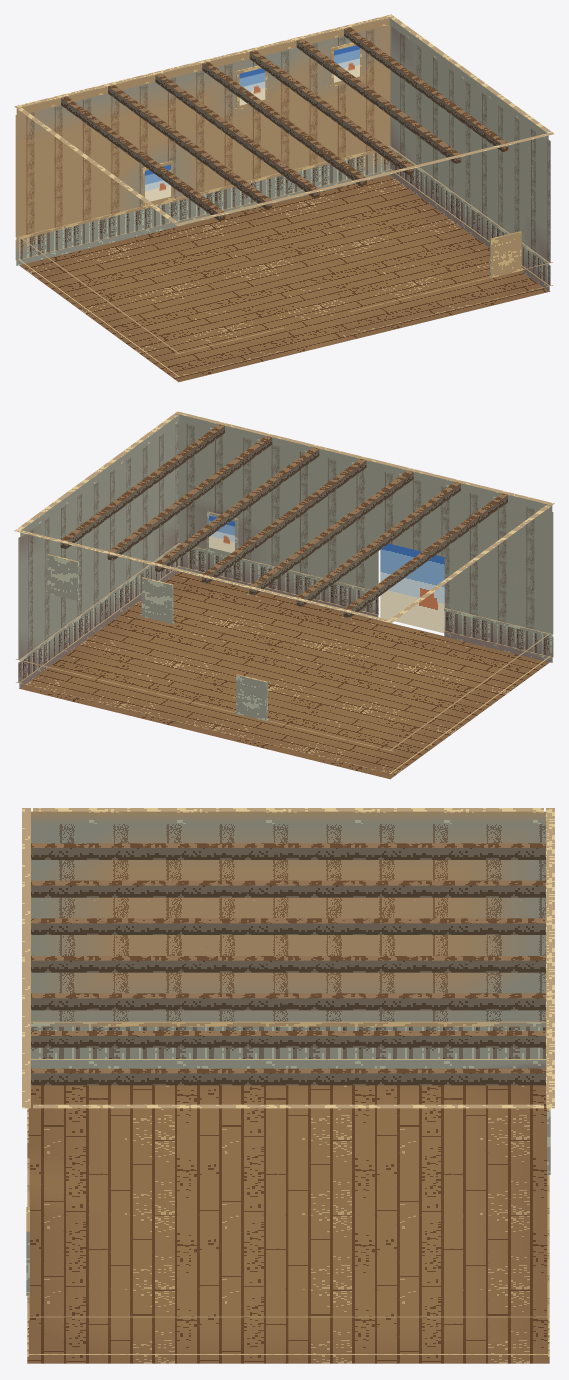
The model's file is wtown.room__saloon.glb.
3 renders of one model, top to bottom at view 1: azimuth 30°, elevation 25°; view 2: azimuth 150°, elevation 25°; view 3: azimuth 270°, elevation 25°, orthographic. The views are drawn at different scales.
Parts seen in each view (by area): view 1: kit_shell_walls, kit_shell_floor, kit_beams, kit_windows, kit_card_views; view 2: kit_shell_walls, kit_shell_floor, kit_beams, kit_windows, kit_card_door_views, kit_card_views; view 3: kit_shell_floor, kit_shell_walls, kit_beams.
Part boxes in pixels (<box>): kit_shell_walls: <box>14,14,554,377</box>; kit_shell_floor: <box>19,175,549,382</box>; kit_beams: <box>61,27,508,221</box>; kit_windows: <box>140,42,523,278</box>; kit_card_views: <box>145,45,359,202</box>; kit_shell_walls: <box>14,411,554,774</box>; kit_shell_floor: <box>19,572,549,779</box>; kit_beams: <box>60,424,507,618</box>; kit_windows: <box>45,511,268,721</box>; kit_card_door_views: <box>380,543,444,633</box>; kit_card_views: <box>209,515,234,552</box>; kit_shell_floor: <box>27,1085,549,1363</box>; kit_shell_walls: <box>22,808,554,1356</box>; kit_beams: <box>31,843,545,1085</box>.
Bounding box in the file's own units: 16 × 6.45 × 12.18.
7 materials, 7 textured.
